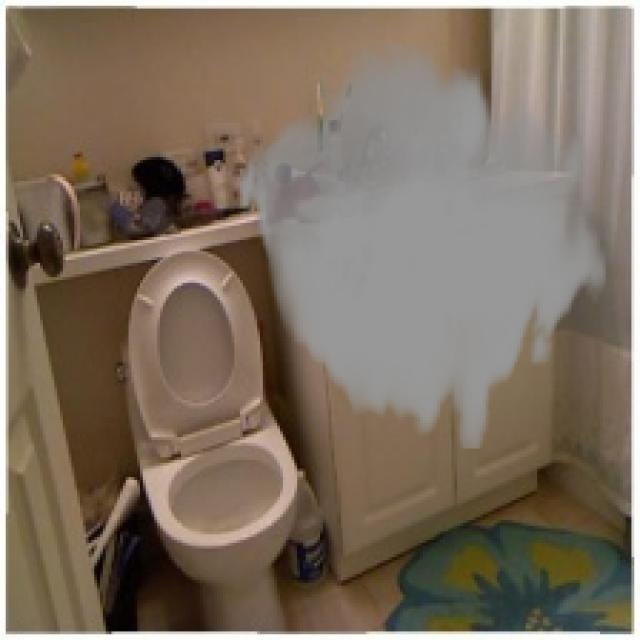smoke: (237, 43, 609, 448)
